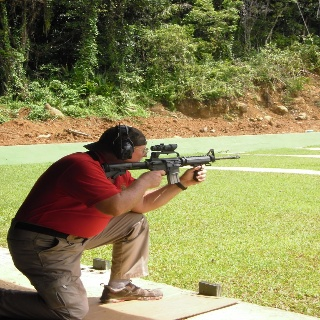rifle: (100, 142, 244, 186)
